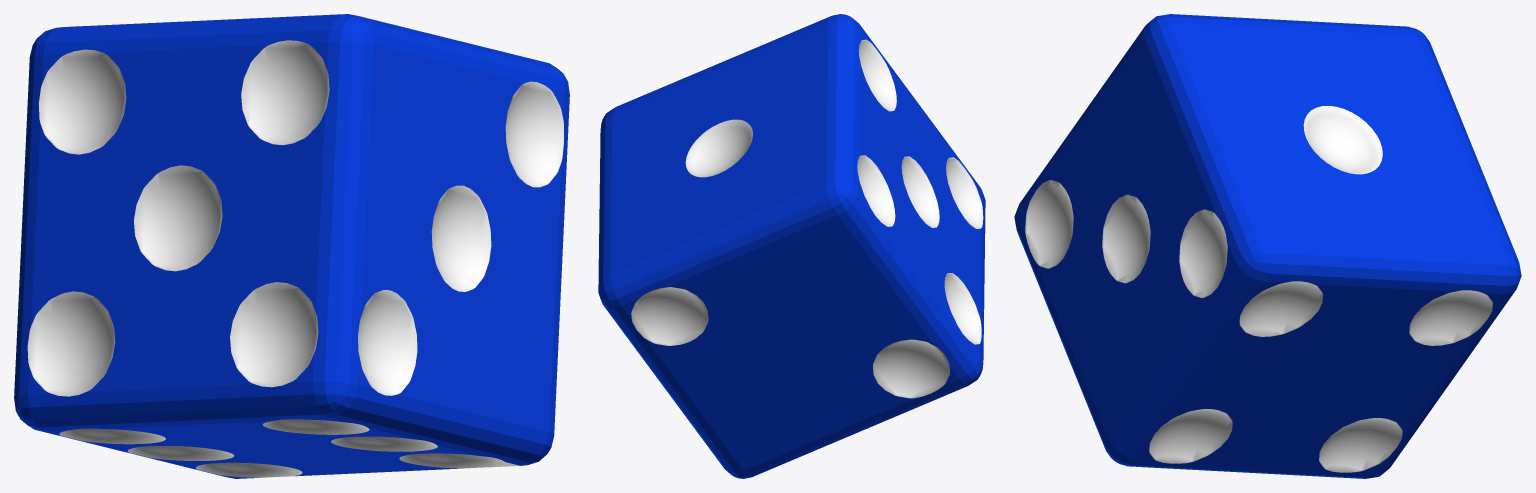
The picture shows the model from 3 angles, left to right: view 1: azimuth 30°, elevation 25°; view 2: azimuth 150°, elevation 25°; view 3: azimuth 270°, elevation 25°; orthographic projection. The views are drawn at different scales.
Parts seen in each view (by area): view 1: Xí Ngầu.002; view 2: Xí Ngầu.002; view 3: Xí Ngầu.002.
Boxes of the visible parts, x1,y1,x2,y2 form: Xí Ngầu.002: (14, 14, 569, 478); Xí Ngầu.002: (598, 14, 985, 478); Xí Ngầu.002: (1014, 14, 1521, 478).
Bounding box in the file's own units: 1.1 × 1.08 × 1.09.
